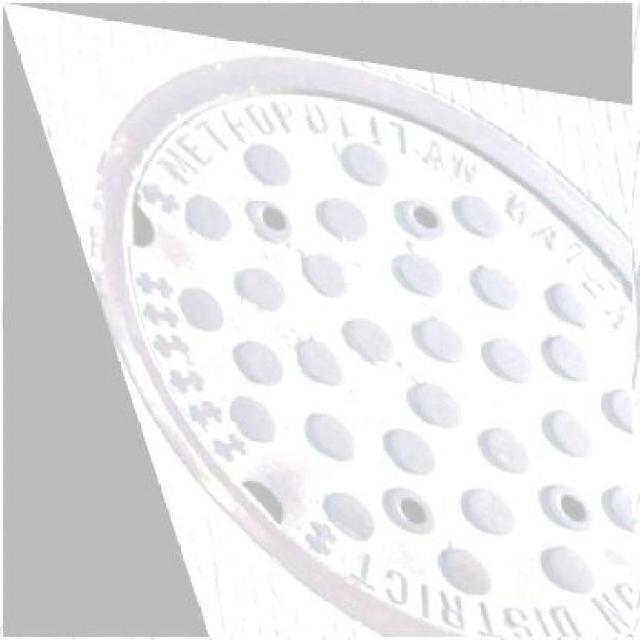Manhole: (3, 2, 632, 638)
